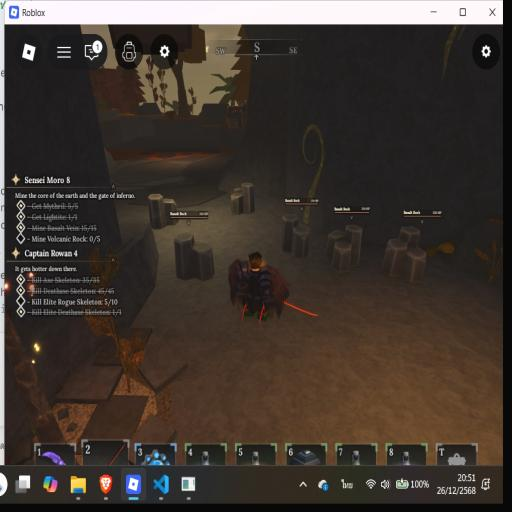player: (229, 252, 289, 321)
rock: (381, 226, 426, 282), (174, 233, 214, 280), (326, 225, 361, 272), (149, 194, 177, 228), (231, 183, 254, 214), (280, 214, 298, 252), (292, 224, 309, 257)
